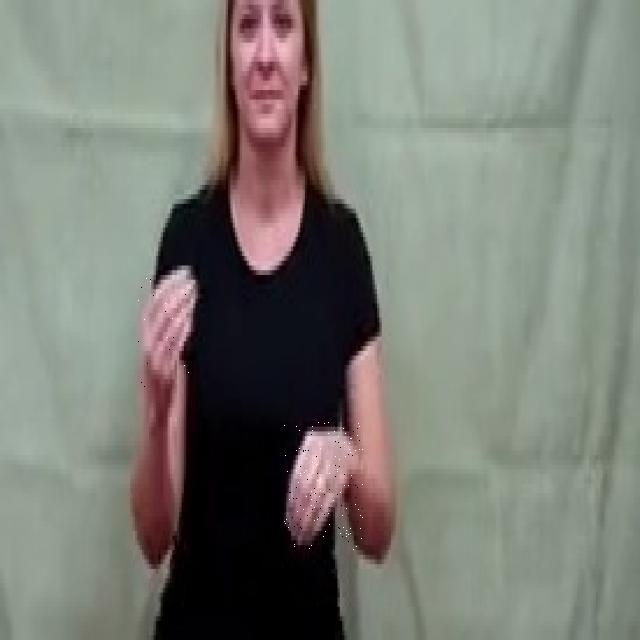ingredients: (284, 422, 363, 550), (138, 266, 198, 392)
